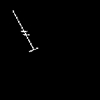treble_crochet: (13, 11, 37, 51)
